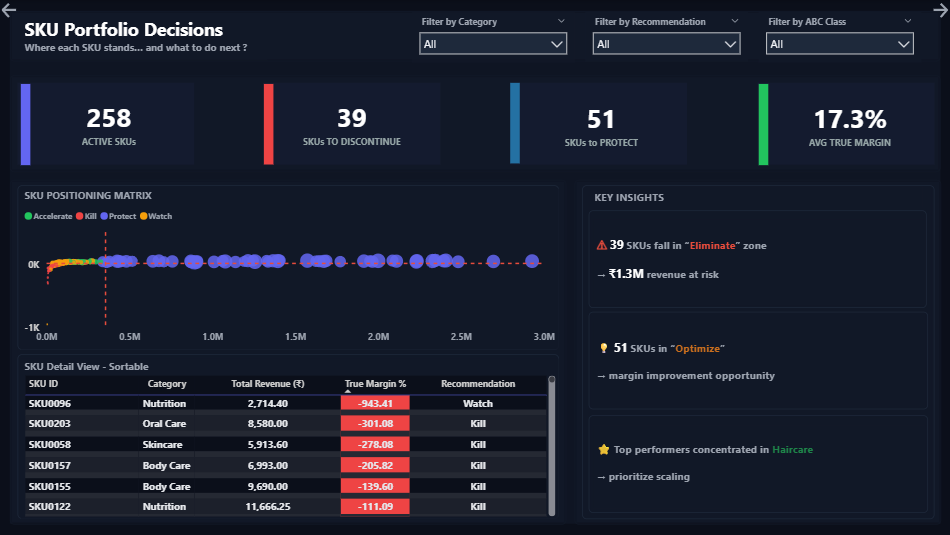

This screenshot's page, from the dashboard's own definition file:
{"tool":"powerbi","page":{"name":"Portfolio Matrix","canvas":[1280,720],"ordinal":1},"visuals":[{"type":"shape","box":[14.9,241.2,748,463],"z":0},{"type":"shape","box":[14.9,14.9,1250.6,689.3],"z":1000},{"type":"shape","box":[14.9,14.9,1250.6,68],"z":2000},{"type":"shape","box":[14.9,101.2,1250.6,130],"z":3000},{"type":"shape","box":[772.7,241.2,492.8,463],"z":4000},{"type":"textbox","box":[28.6,18,330.8,63.1],"z":5000},{"type":"shape","box":[24.9,111.3,237.3,109.8],"z":6000},{"type":"shape","box":[356.1,111.3,237.3,109.8],"z":7000},{"type":"shape","box":[687.4,112,238,109.8],"z":8000},{"type":"shape","box":[1019.4,112,238,109.8],"z":9000},{"type":"shape","box":[24.9,249,727.9,221],"z":10000},{"type":"shape","box":[24.9,476,727.9,221.1],"z":11000},{"type":"shape","box":[783.6,249,473.1,448.2],"z":12000},{"type":"scatterChart","title":"SKU POSITIONING MATRIX","fields":{"X":["Sum(sku_rationalization_master.total_revenue)"],"Y":["Avg(sku_rationalization_master.true_margin_pct)"],"Series":["sku_rationalization_master.recommendation"],"Size":["Sum(sku_rationalization_master.total_units)"],"Category":["sku_rationalization_master.sku_id"]},"box":[29.3,253.4,723.5,216.8],"z":13000},{"type":"shape","box":[793,282.5,454.3,131.6],"z":14000},{"type":"shape","box":[793,558.6,455.9,131.6],"z":15000},{"type":"shape","box":[793,419,455.9,131.6],"z":16000},{"type":"textbox","box":[797.8,293.8,446.2,112.4],"z":17000},{"type":"textbox","box":[797.8,431.8,446.2,112.4],"z":18000},{"type":"textbox","box":[797.8,571.5,446.2,112.4],"z":19000},{"type":"textbox","box":[794.6,250.4,446.2,28],"z":20000},{"type":"tableEx","title":"SKU Detail View - Sortable","fields":{"Values":["sku_rationalization_master.sku_id","sku_rationalization_master.category","Sum(sku_rationalization_master.total_revenue)","Avg(sku_rationalization_master.true_margin_pct)","Min(sku_rationalization_master.recommendation)"]},"box":[28.9,481.6,723,216.7],"z":21000},{"type":"shape","box":[28.9,112.4,12.8,109.2],"z":22000},{"type":"shape","box":[355.9,112.8,13.2,108.4],"z":23000},{"type":"shape","box":[686.9,111.3,13.2,108.4],"z":24000},{"type":"shape","box":[1020.9,112.4,12.8,109.2],"z":25000},{"type":"cardVisual","fields":{"Data":["_Measures.Total Active SKUs"]},"box":[38.5,115.6,219.9,99.5],"z":26000},{"type":"cardVisual","fields":{"Data":["_Measures.SKUs to Kill"]},"box":[364.7,115.7,219.7,99.6],"z":27000},{"type":"cardVisual","fields":{"Data":["_Measures _1.SKUs to Protect"]},"box":[700.1,117.2,219.7,99.6],"z":28000},{"type":"cardVisual","fields":{"Data":["_Measures.Avg True Margin %"]},"box":[1033.8,117.2,219.9,99.5],"z":29000},{"type":"actionButton","box":[1250.8,0,28.6,28.6],"z":33000},{"type":"actionButton","box":[0,0,28.6,28.6],"z":33001},{"type":"slicer","fields":{"Values":["sku_rationalization_master.category"]},"box":[554.8,16.5,218,67.7],"z":33002},{"type":"slicer","fields":{"Values":["sku_rationalization_master.abc_class"]},"box":[1020.8,16.5,218,67.7],"z":33003},{"type":"slicer","fields":{"Values":["sku_rationalization_master.recommendation"]},"box":[787.7,16.5,218.2,67.4],"z":33004}]}

Visuals, with their boxes in screenshot pixels (x1, y1, x2, y2), scaled from the page's 1280x720 canvas onto the 950x535 screenshot:
shape: box=[11, 179, 566, 523]
shape: box=[11, 11, 939, 523]
shape: box=[11, 11, 939, 62]
shape: box=[11, 75, 939, 172]
shape: box=[573, 179, 939, 523]
textbox: box=[21, 13, 267, 60]
shape: box=[18, 83, 195, 164]
shape: box=[264, 83, 440, 164]
shape: box=[510, 83, 687, 165]
shape: box=[757, 83, 933, 165]
shape: box=[18, 185, 559, 349]
shape: box=[18, 354, 559, 518]
shape: box=[582, 185, 933, 518]
"SKU POSITIONING MATRIX" scatterChart: box=[22, 188, 559, 349]
shape: box=[589, 210, 926, 308]
shape: box=[589, 415, 927, 513]
shape: box=[589, 311, 927, 409]
textbox: box=[592, 218, 923, 302]
textbox: box=[592, 321, 923, 404]
textbox: box=[592, 425, 923, 508]
textbox: box=[590, 186, 921, 207]
"SKU Detail View - Sortable" tableEx: box=[21, 358, 558, 519]
shape: box=[21, 84, 31, 165]
shape: box=[264, 84, 274, 164]
shape: box=[510, 83, 520, 163]
shape: box=[758, 84, 767, 165]
cardVisual - _Measures.Total Active SKUs: box=[29, 86, 192, 160]
cardVisual - _Measures.SKUs to Kill: box=[271, 86, 434, 160]
cardVisual - _Measures _1.SKUs to Protect: box=[520, 87, 683, 161]
cardVisual - _Measures.Avg True Margin %: box=[767, 87, 930, 161]
actionButton: box=[928, 0, 949, 21]
actionButton: box=[0, 0, 21, 21]
slicer - sku_rationalization_master.category: box=[412, 12, 574, 63]
slicer - sku_rationalization_master.abc_class: box=[758, 12, 919, 63]
slicer - sku_rationalization_master.recommendation: box=[585, 12, 747, 62]
